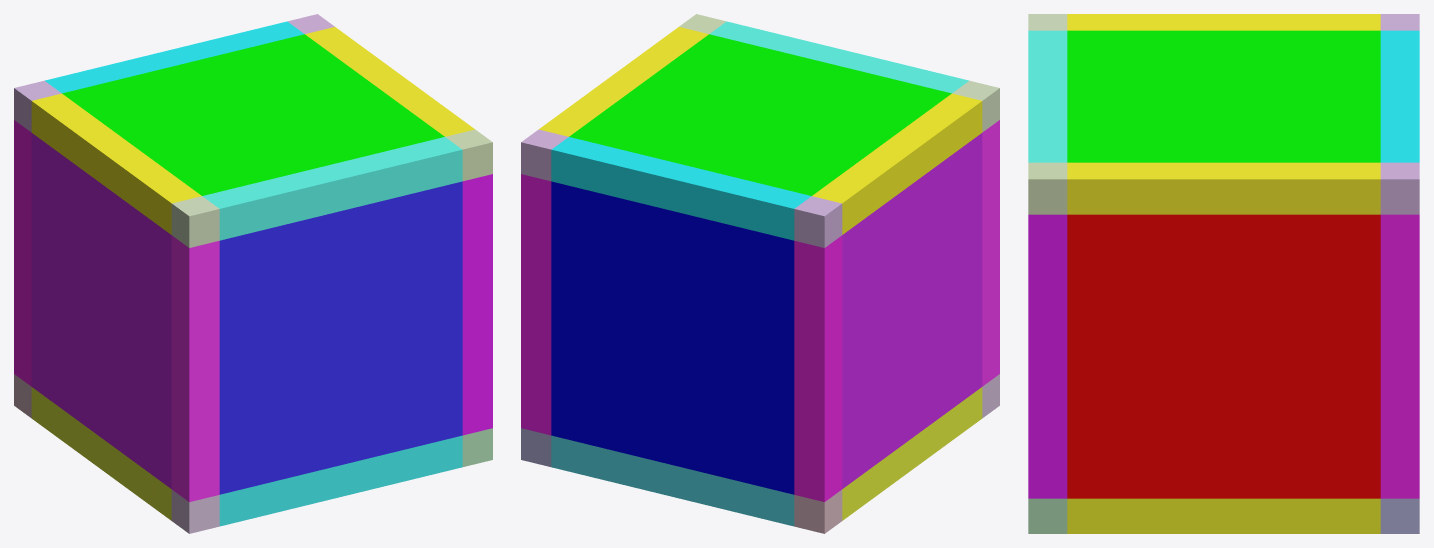
The model's file is navicube.fbx.
The picture shows the model from 3 angles, left to right: view 1: azimuth 30°, elevation 25°; view 2: azimuth 150°, elevation 25°; view 3: azimuth 270°, elevation 25°; orthographic projection. The views are drawn at different scales.
Parts seen in each view (by area): view 1: Cube; view 2: Cube; view 3: Cube.
Part boxes in pixels (x1,y1,x2,y2): Cube: (14,14,492,533); Cube: (521,14,999,533); Cube: (1028,14,1419,533).
Bounding box in the file's own units: 100 × 100 × 100.
